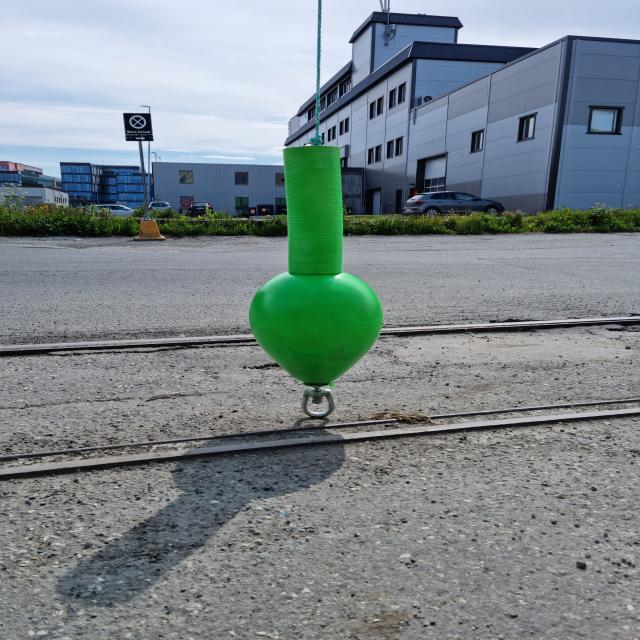green: (248, 143, 385, 384)
